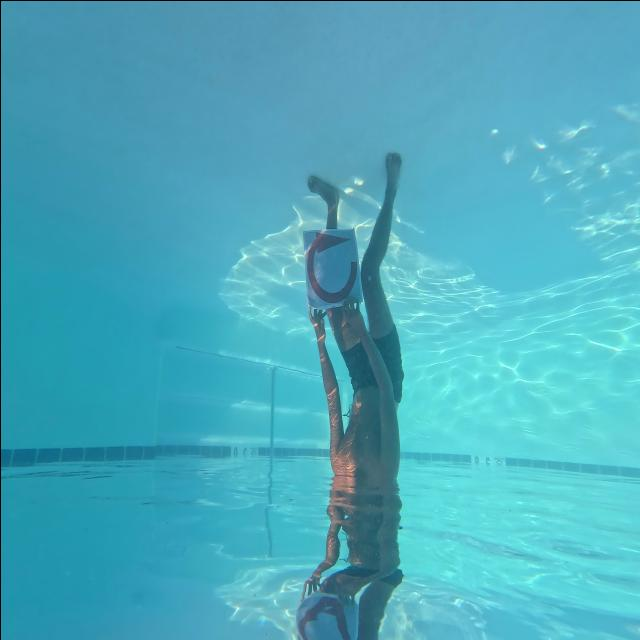red_side: (304, 228, 359, 304)
